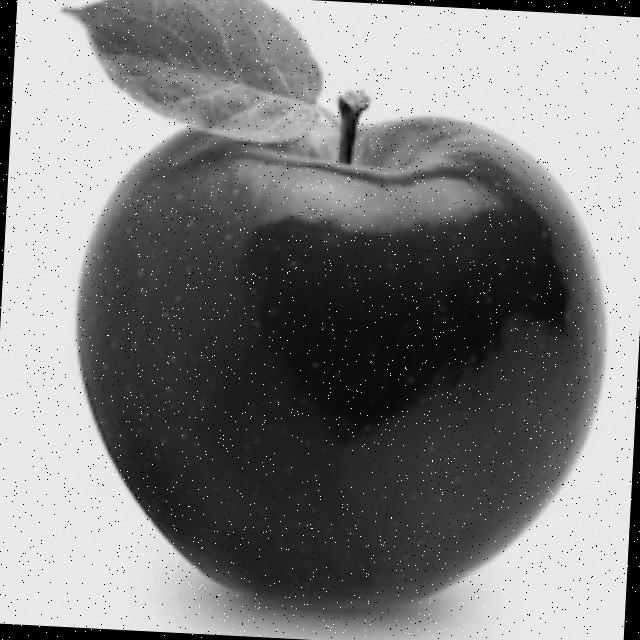Ripe: (56, 87, 618, 626)
